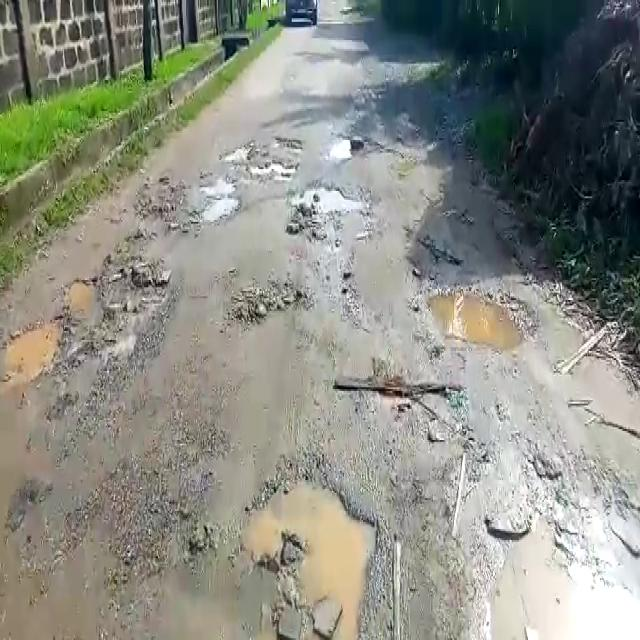Pothole: (228, 460, 391, 638), (485, 515, 640, 638), (65, 247, 172, 328), (431, 280, 537, 349), (0, 311, 63, 387), (282, 181, 369, 231), (248, 158, 299, 176), (326, 133, 354, 159), (272, 134, 306, 149)
